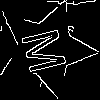M: (21, 24, 77, 76)
